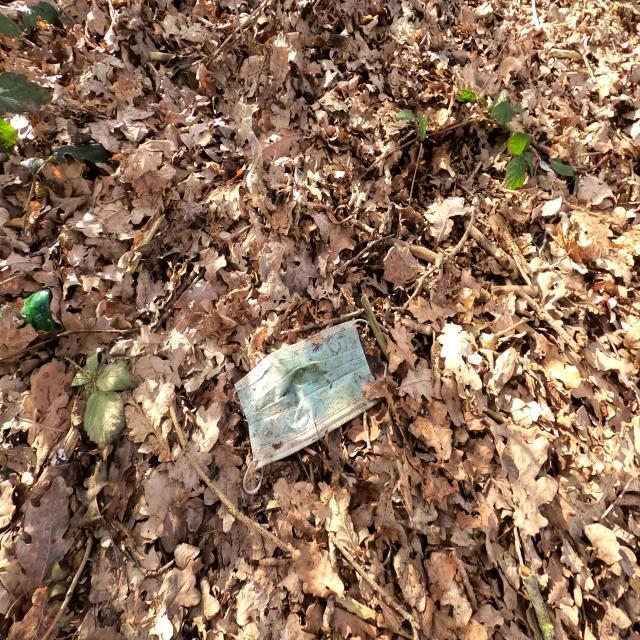Mask: (235, 312, 389, 470)
